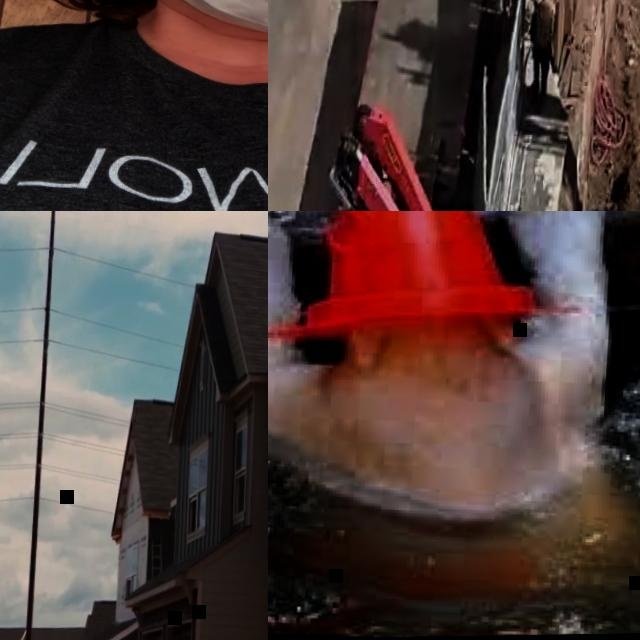NO-Safety Vest: (0, 0, 268, 211)
Person: (0, 0, 268, 211), (527, 0, 557, 97)
Safety Cone: (268, 211, 540, 354)
machinery: (319, 99, 453, 211)
